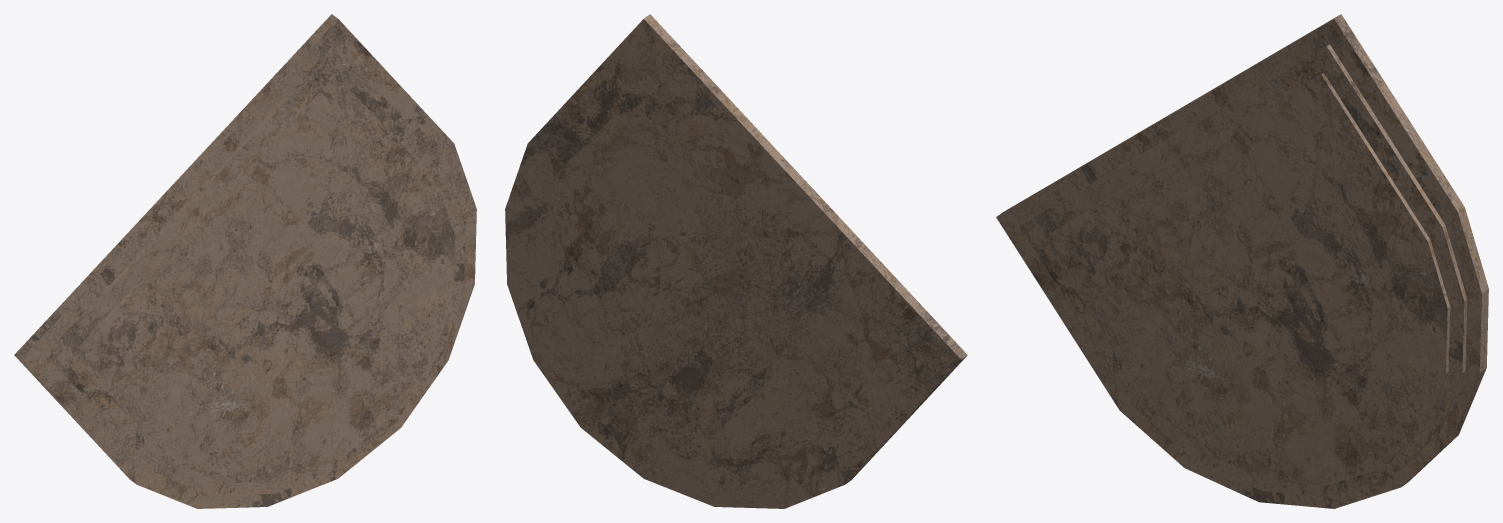
The model's file is Altar.fbx.
The picture shows the model from 3 angles, left to right: view 1: azimuth 30°, elevation 25°; view 2: azimuth 150°, elevation 25°; view 3: azimuth 330°, elevation 25°; orthographic projection. The views are drawn at different scales.
Visible parts, largest first — view 1: Piso_Altar; view 2: Piso_Altar; view 3: Piso_Altar.
Boxes of the visible parts, <box> form: Piso_Altar: <box>14,14,476,508</box>; Piso_Altar: <box>505,14,967,508</box>; Piso_Altar: <box>996,14,1488,508</box>.
Bounding box in the file's own units: 13.19 × 13.01 × 0.5919.
Materials: 1 (1 with a texture image).
